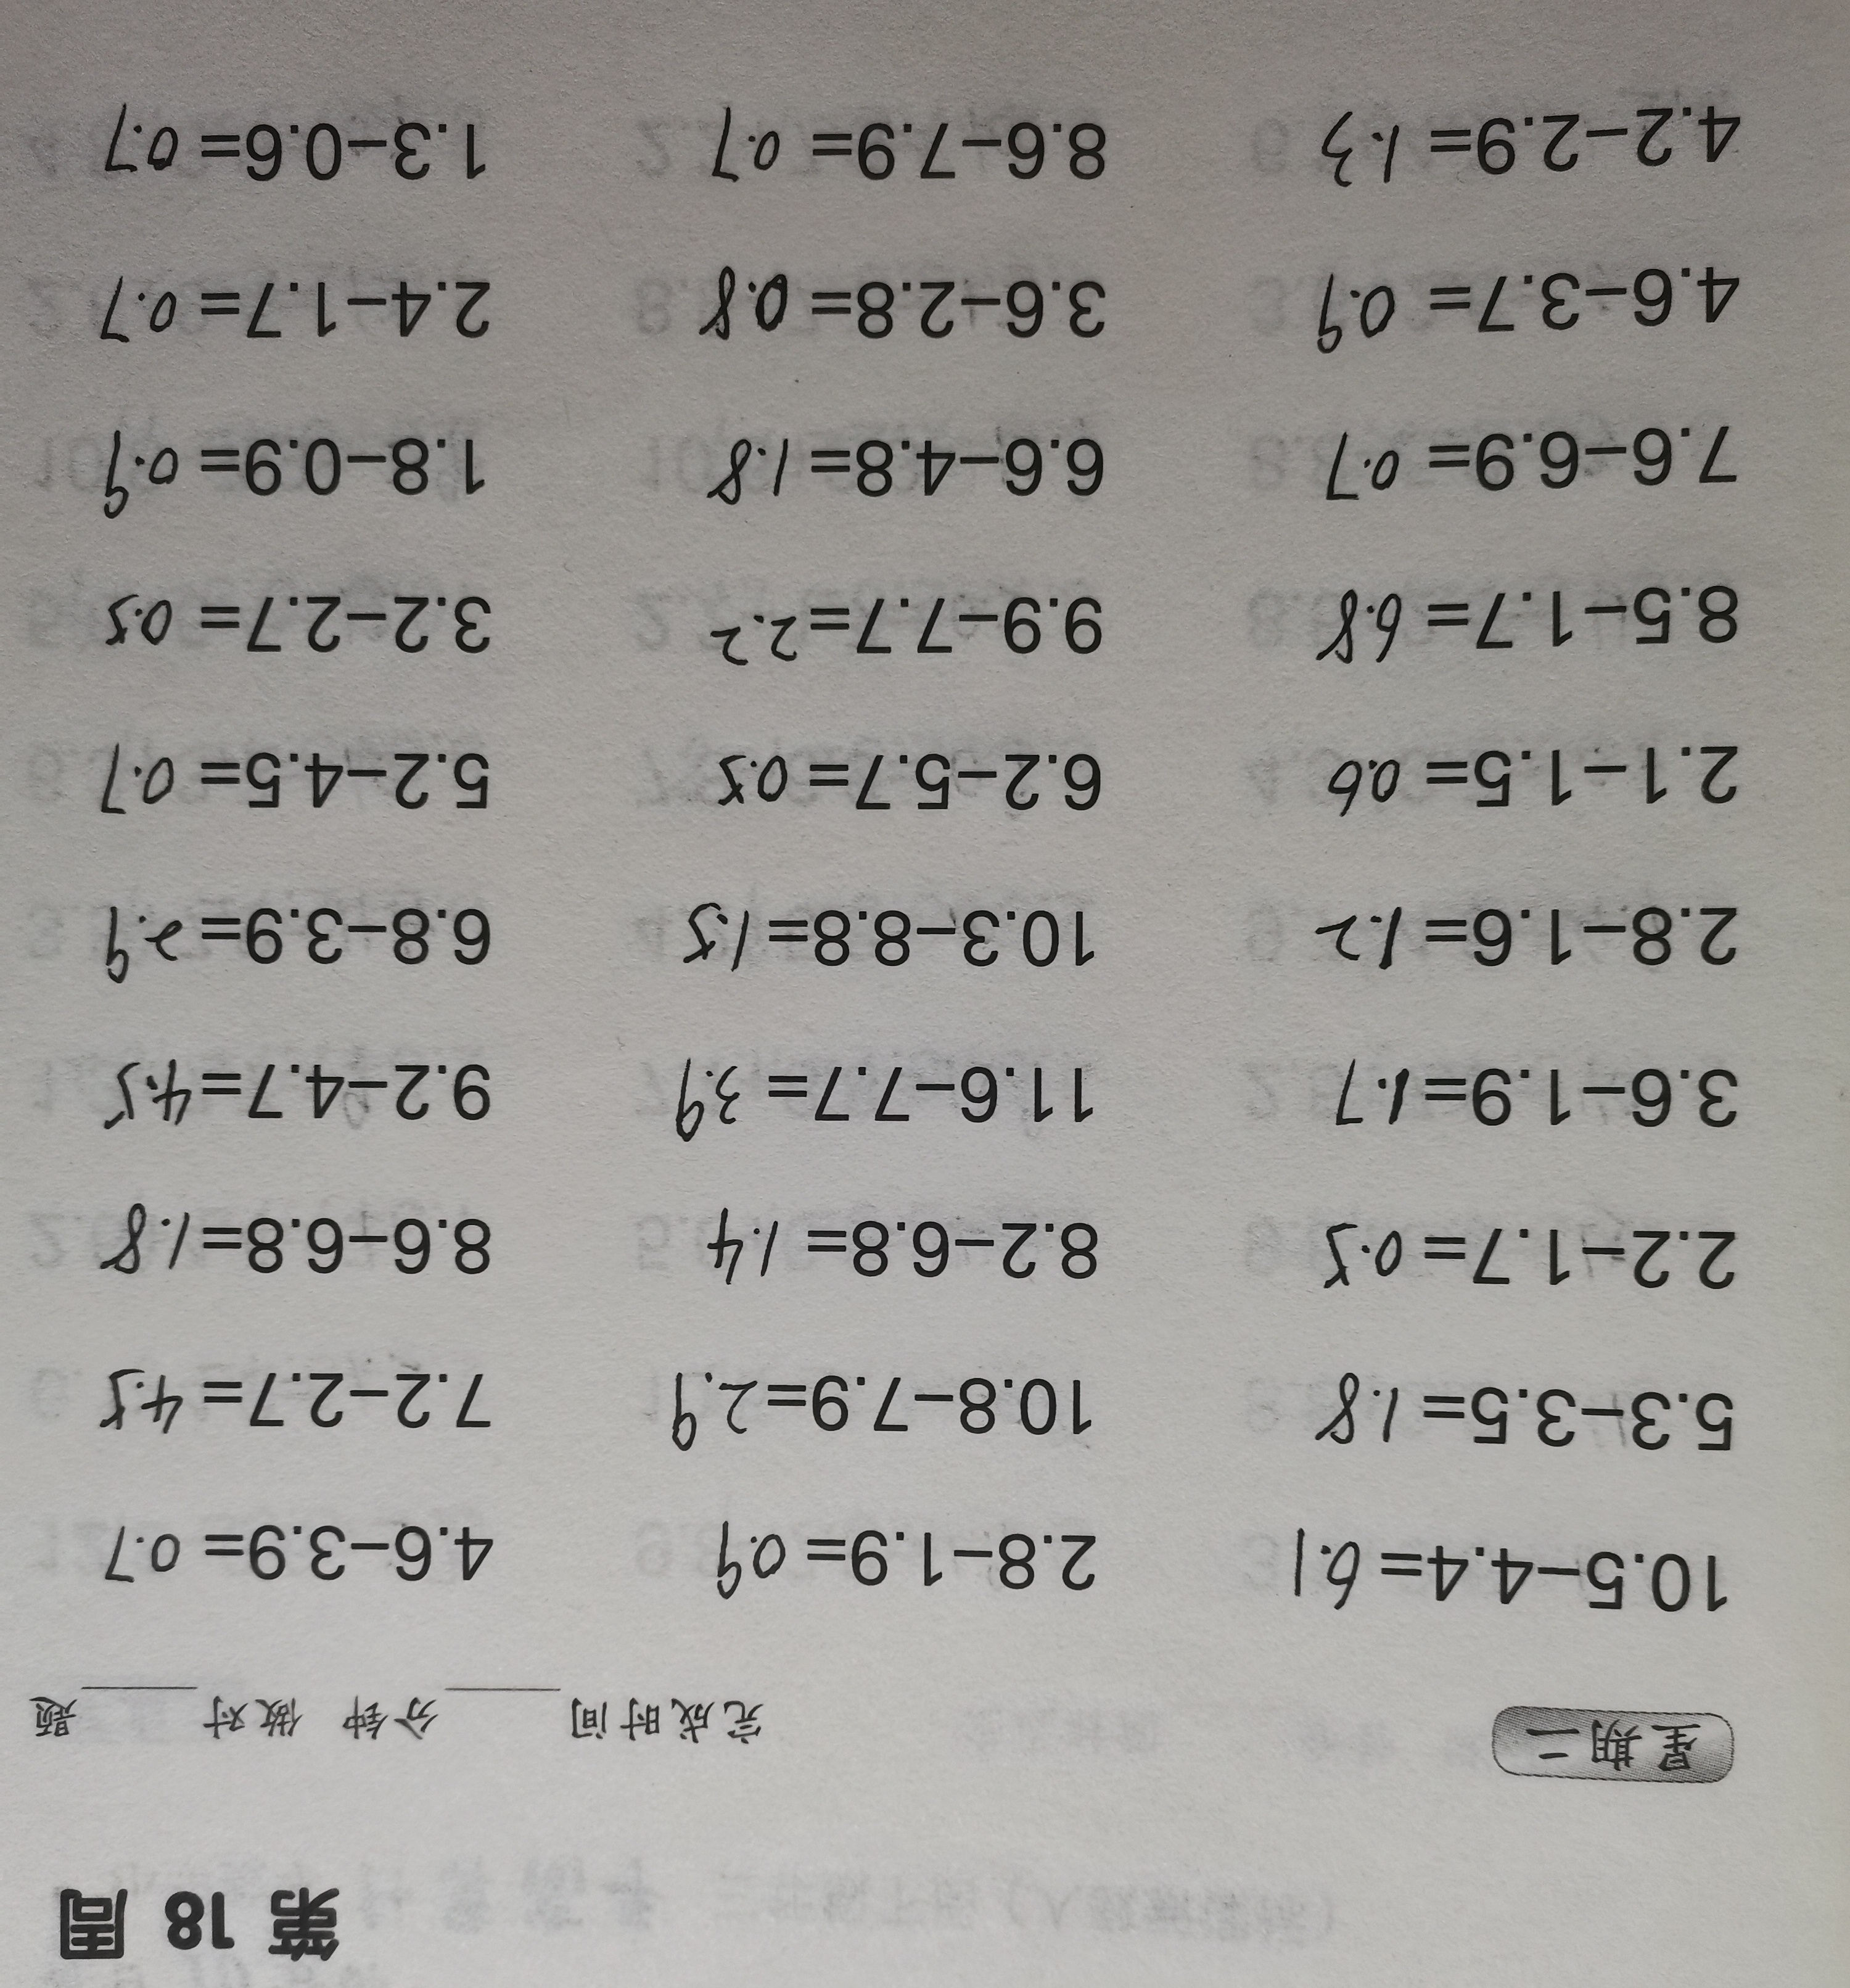equation: (1276, 1513, 1746, 1644), (664, 880, 1108, 1017), (1283, 243, 1754, 370), (77, 71, 492, 214), (689, 1503, 1115, 1640), (1297, 1033, 1753, 1158), (1295, 560, 1754, 684), (1295, 1362, 1753, 1485), (1304, 82, 1753, 207), (1287, 889, 1760, 1007), (654, 1353, 1109, 1475), (1288, 412, 1754, 530), (676, 576, 1120, 696), (694, 82, 1123, 205), (90, 405, 501, 534), (1299, 1209, 1751, 1325), (1304, 730, 1754, 847), (77, 1188, 513, 1306), (83, 889, 506, 1009), (645, 1054, 1113, 1162), (83, 245, 497, 367), (689, 250, 1125, 365), (85, 570, 501, 690), (80, 718, 501, 837), (96, 1504, 504, 1626), (669, 1198, 1113, 1310), (80, 1350, 502, 1464), (692, 417, 1125, 529), (683, 736, 1115, 847), (94, 1042, 508, 1151)
